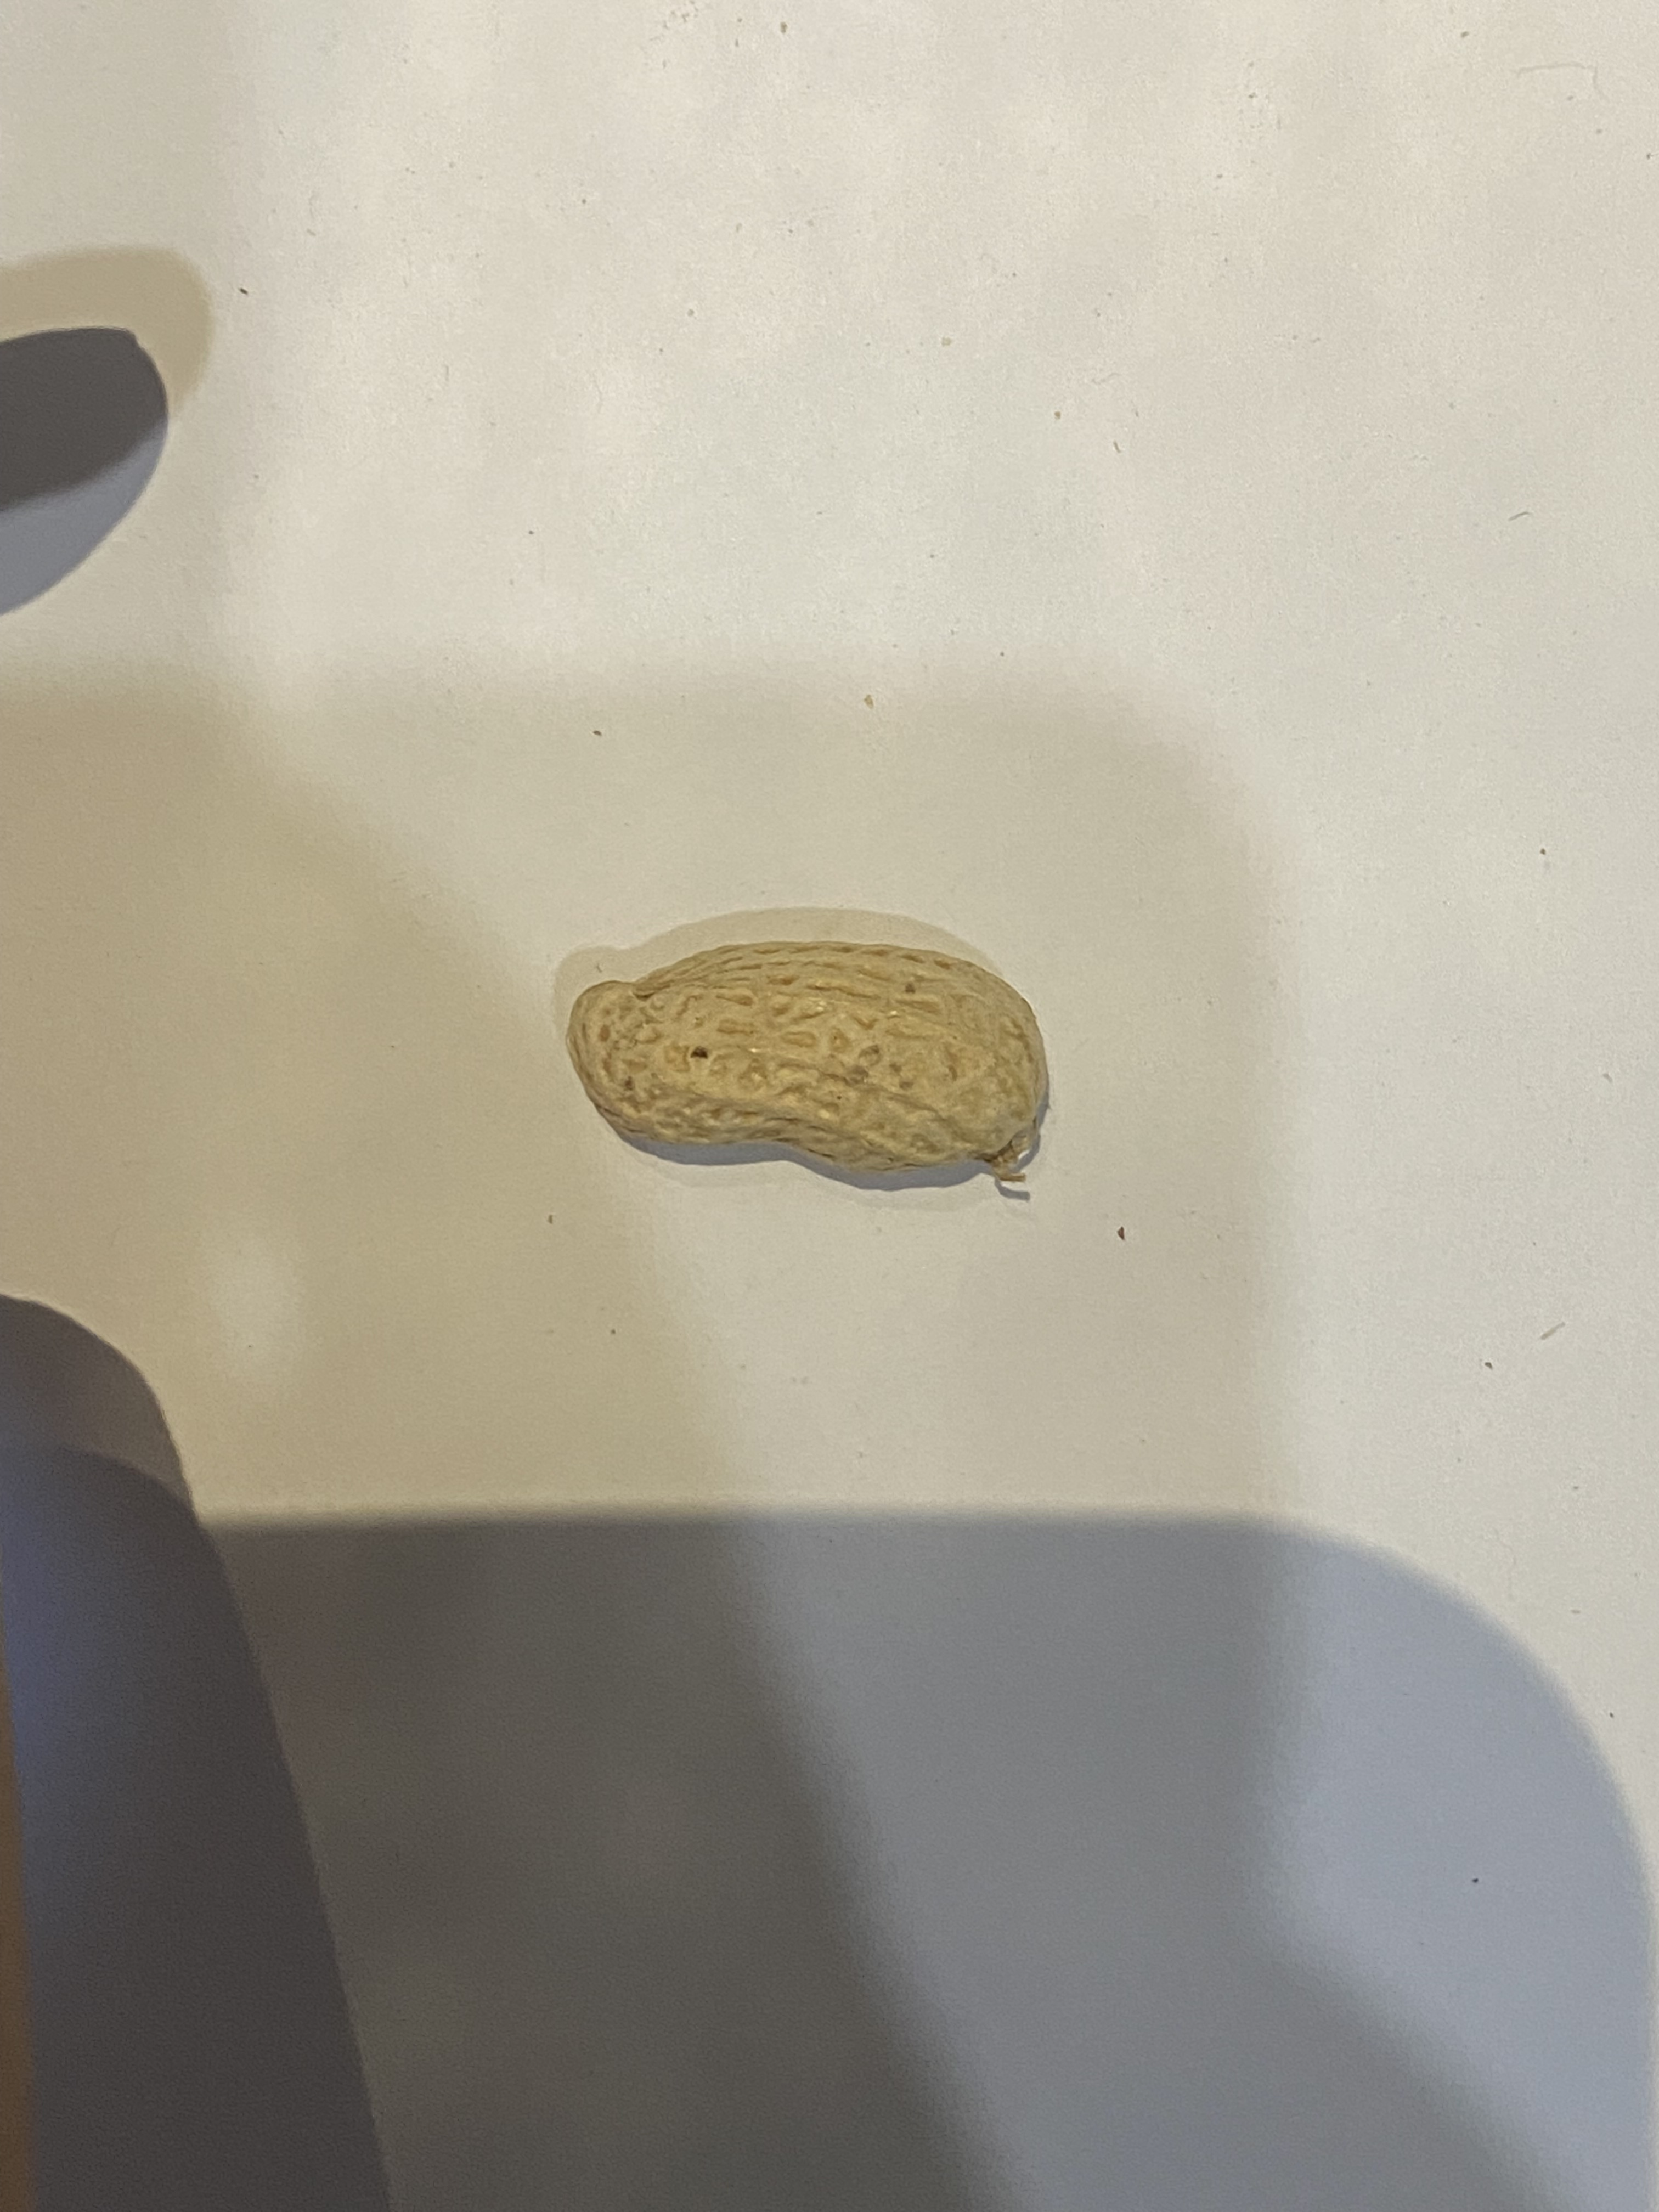kacang2: (552, 934, 1068, 1188)
